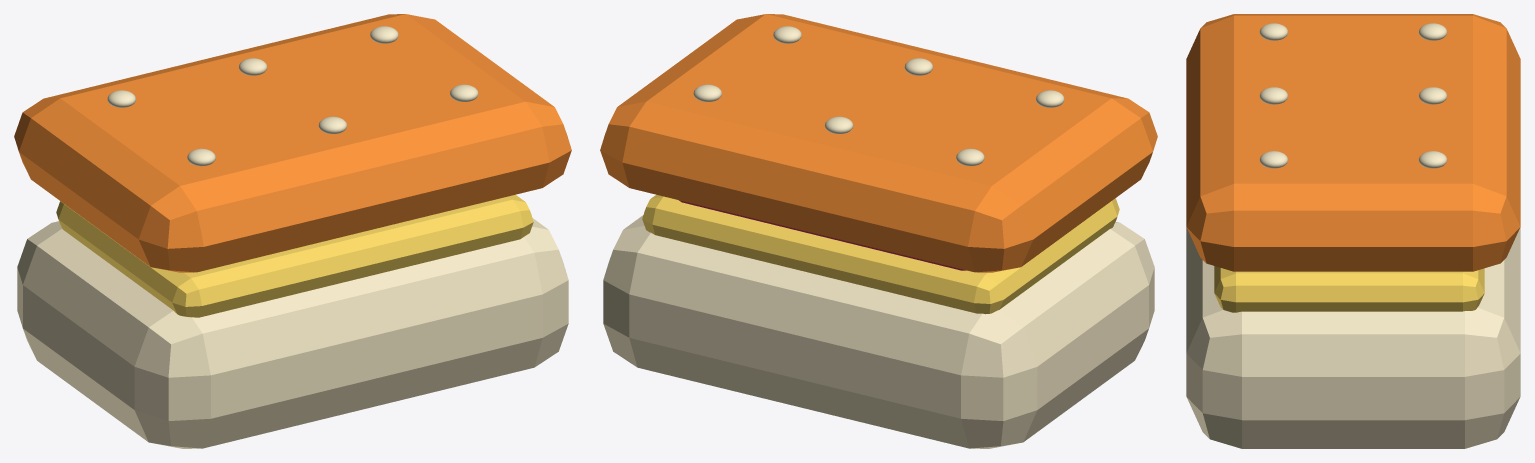
The model's file is pickup_snack.glb.
3 renders of one model, left to right at view 1: azimuth 30°, elevation 25°; view 2: azimuth 150°, elevation 25°; view 3: azimuth 270°, elevation 25°, orthographic.
Parts seen in each view (by area): view 1: Top cracker, Cracker sandwich, Cheese layer; view 2: Top cracker, Cracker sandwich, Cheese layer, Jam layer; view 3: Top cracker, Cracker sandwich, Cheese layer, Cracker dimple, Cracker dimple.001, Cracker dimple.002, Cracker dimple.003, Cracker dimple.004, Cracker dimple.005.
Boxes of the visible parts, x1,y1,x2,y2 form: Top cracker: (14,14,571,272); Cracker sandwich: (17,218,568,448); Cheese layer: (56,194,533,317); Top cracker: (600,14,1157,272); Cracker sandwich: (603,215,1154,448); Cheese layer: (642,194,1119,314); Jam layer: (679,200,966,270); Top cracker: (1186,14,1520,271); Cracker sandwich: (1186,227,1520,448); Cheese layer: (1214,266,1484,312); Cracker dimple: (1259,23,1287,40); Cracker dimple.001: (1419,23,1447,40); Cracker dimple.002: (1259,87,1287,104); Cracker dimple.003: (1419,87,1447,104); Cracker dimple.004: (1259,151,1287,168); Cracker dimple.005: (1419,151,1447,168).
Size of the model in its own units: 0.62 by 0.384 by 0.42.
